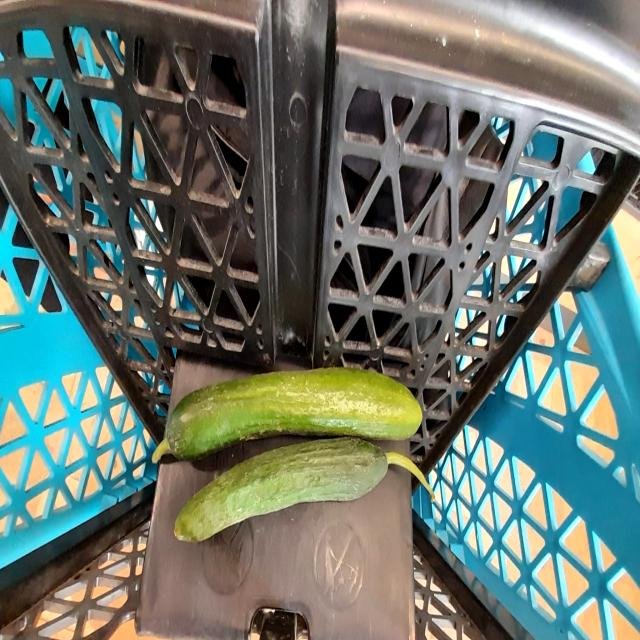cucumber: (170, 437, 428, 558), (159, 362, 426, 465)
